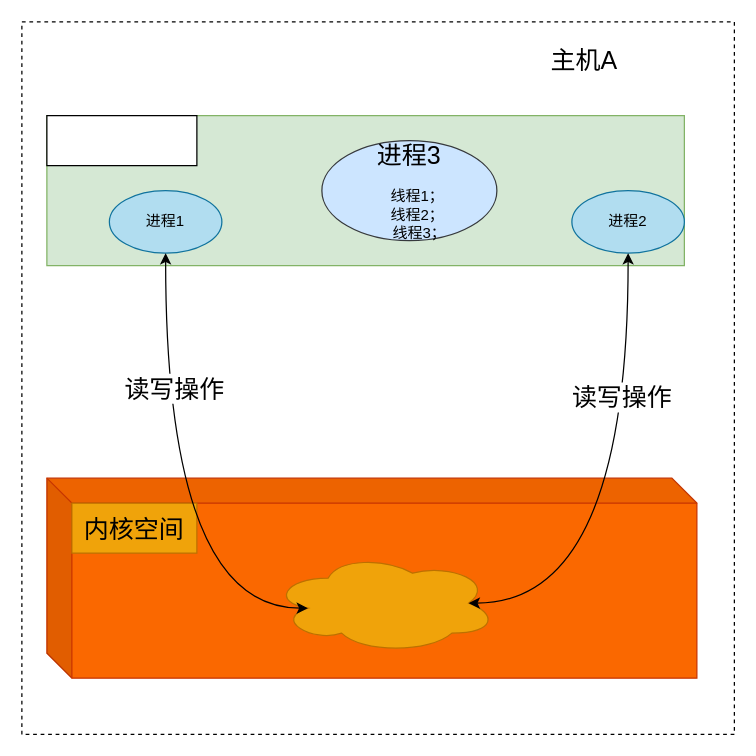
Some shapes in this 756 by 756 pixel diagram are drawn without their labels. The shapes that lost their labels are listed below. From the top down, each one's centre as x and y in pixels, then its label:
(x=121, y=140): 用户空间
(x=384, y=602): 内核中的对象
